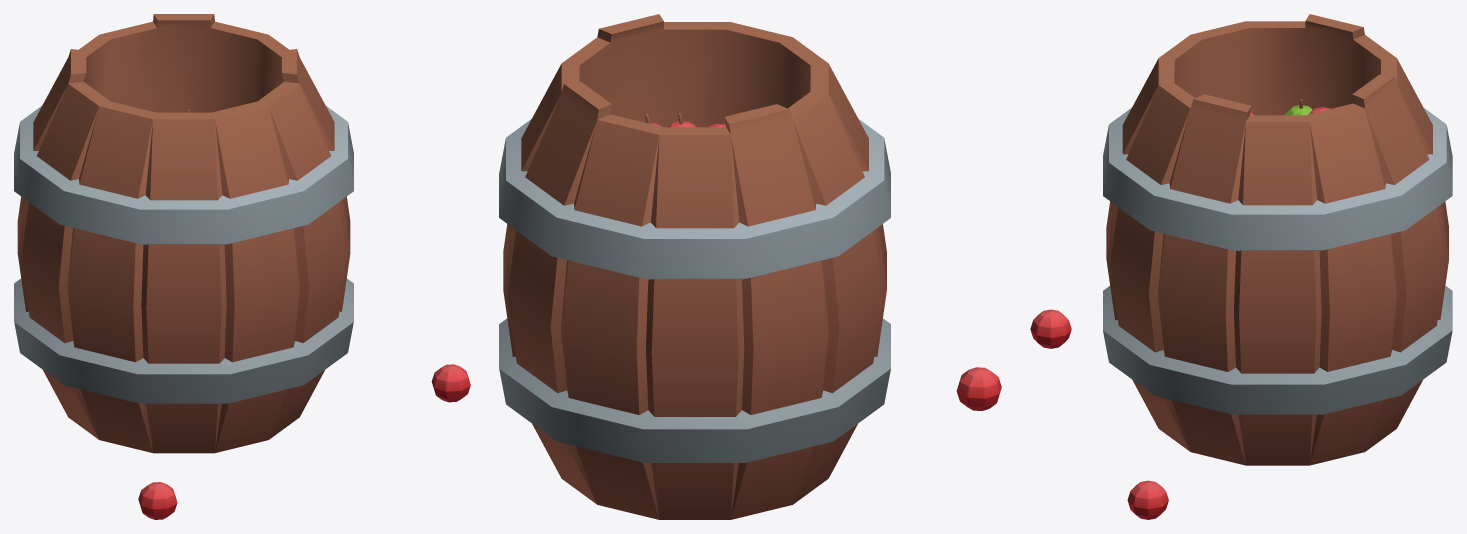
File: apple_barrel_15.glb
3 renders of one model, left to right at view 1: azimuth 30°, elevation 25°; view 2: azimuth 150°, elevation 25°; view 3: azimuth 270°, elevation 25°, orthographic. The views are drawn at different scales.
Parts seen in each view (by area): view 1: apple_barrel_15; view 2: apple_barrel_15; view 3: apple_barrel_15.
Boxes of the visible parts, left/top/right/bottom form: apple_barrel_15: left=14, top=14, right=470, bottom=519; apple_barrel_15: left=499, top=14, right=1001, bottom=519; apple_barrel_15: left=1030, top=14, right=1452, bottom=519.
Size of the model in its own units: 1.38 by 1.2 by 1.3.
2 materials, 2 textured.
